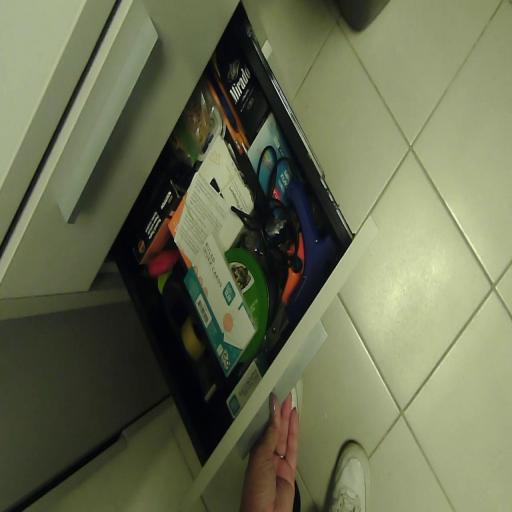pen: (214, 83, 241, 136)
